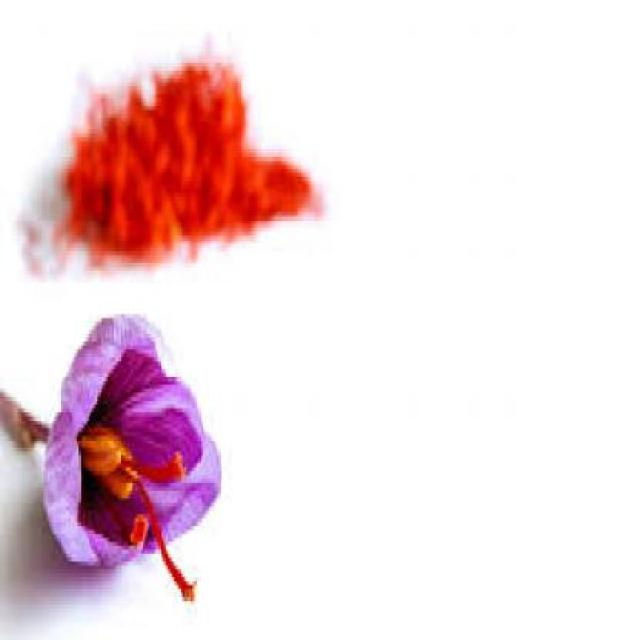Flower: (39, 310, 226, 572)
stigma: (139, 484, 204, 610), (120, 451, 190, 485)
